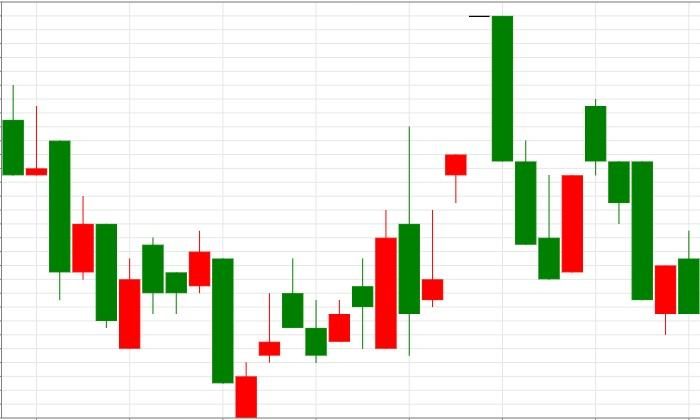three_black_crows_fall: (421, 16, 561, 307)
